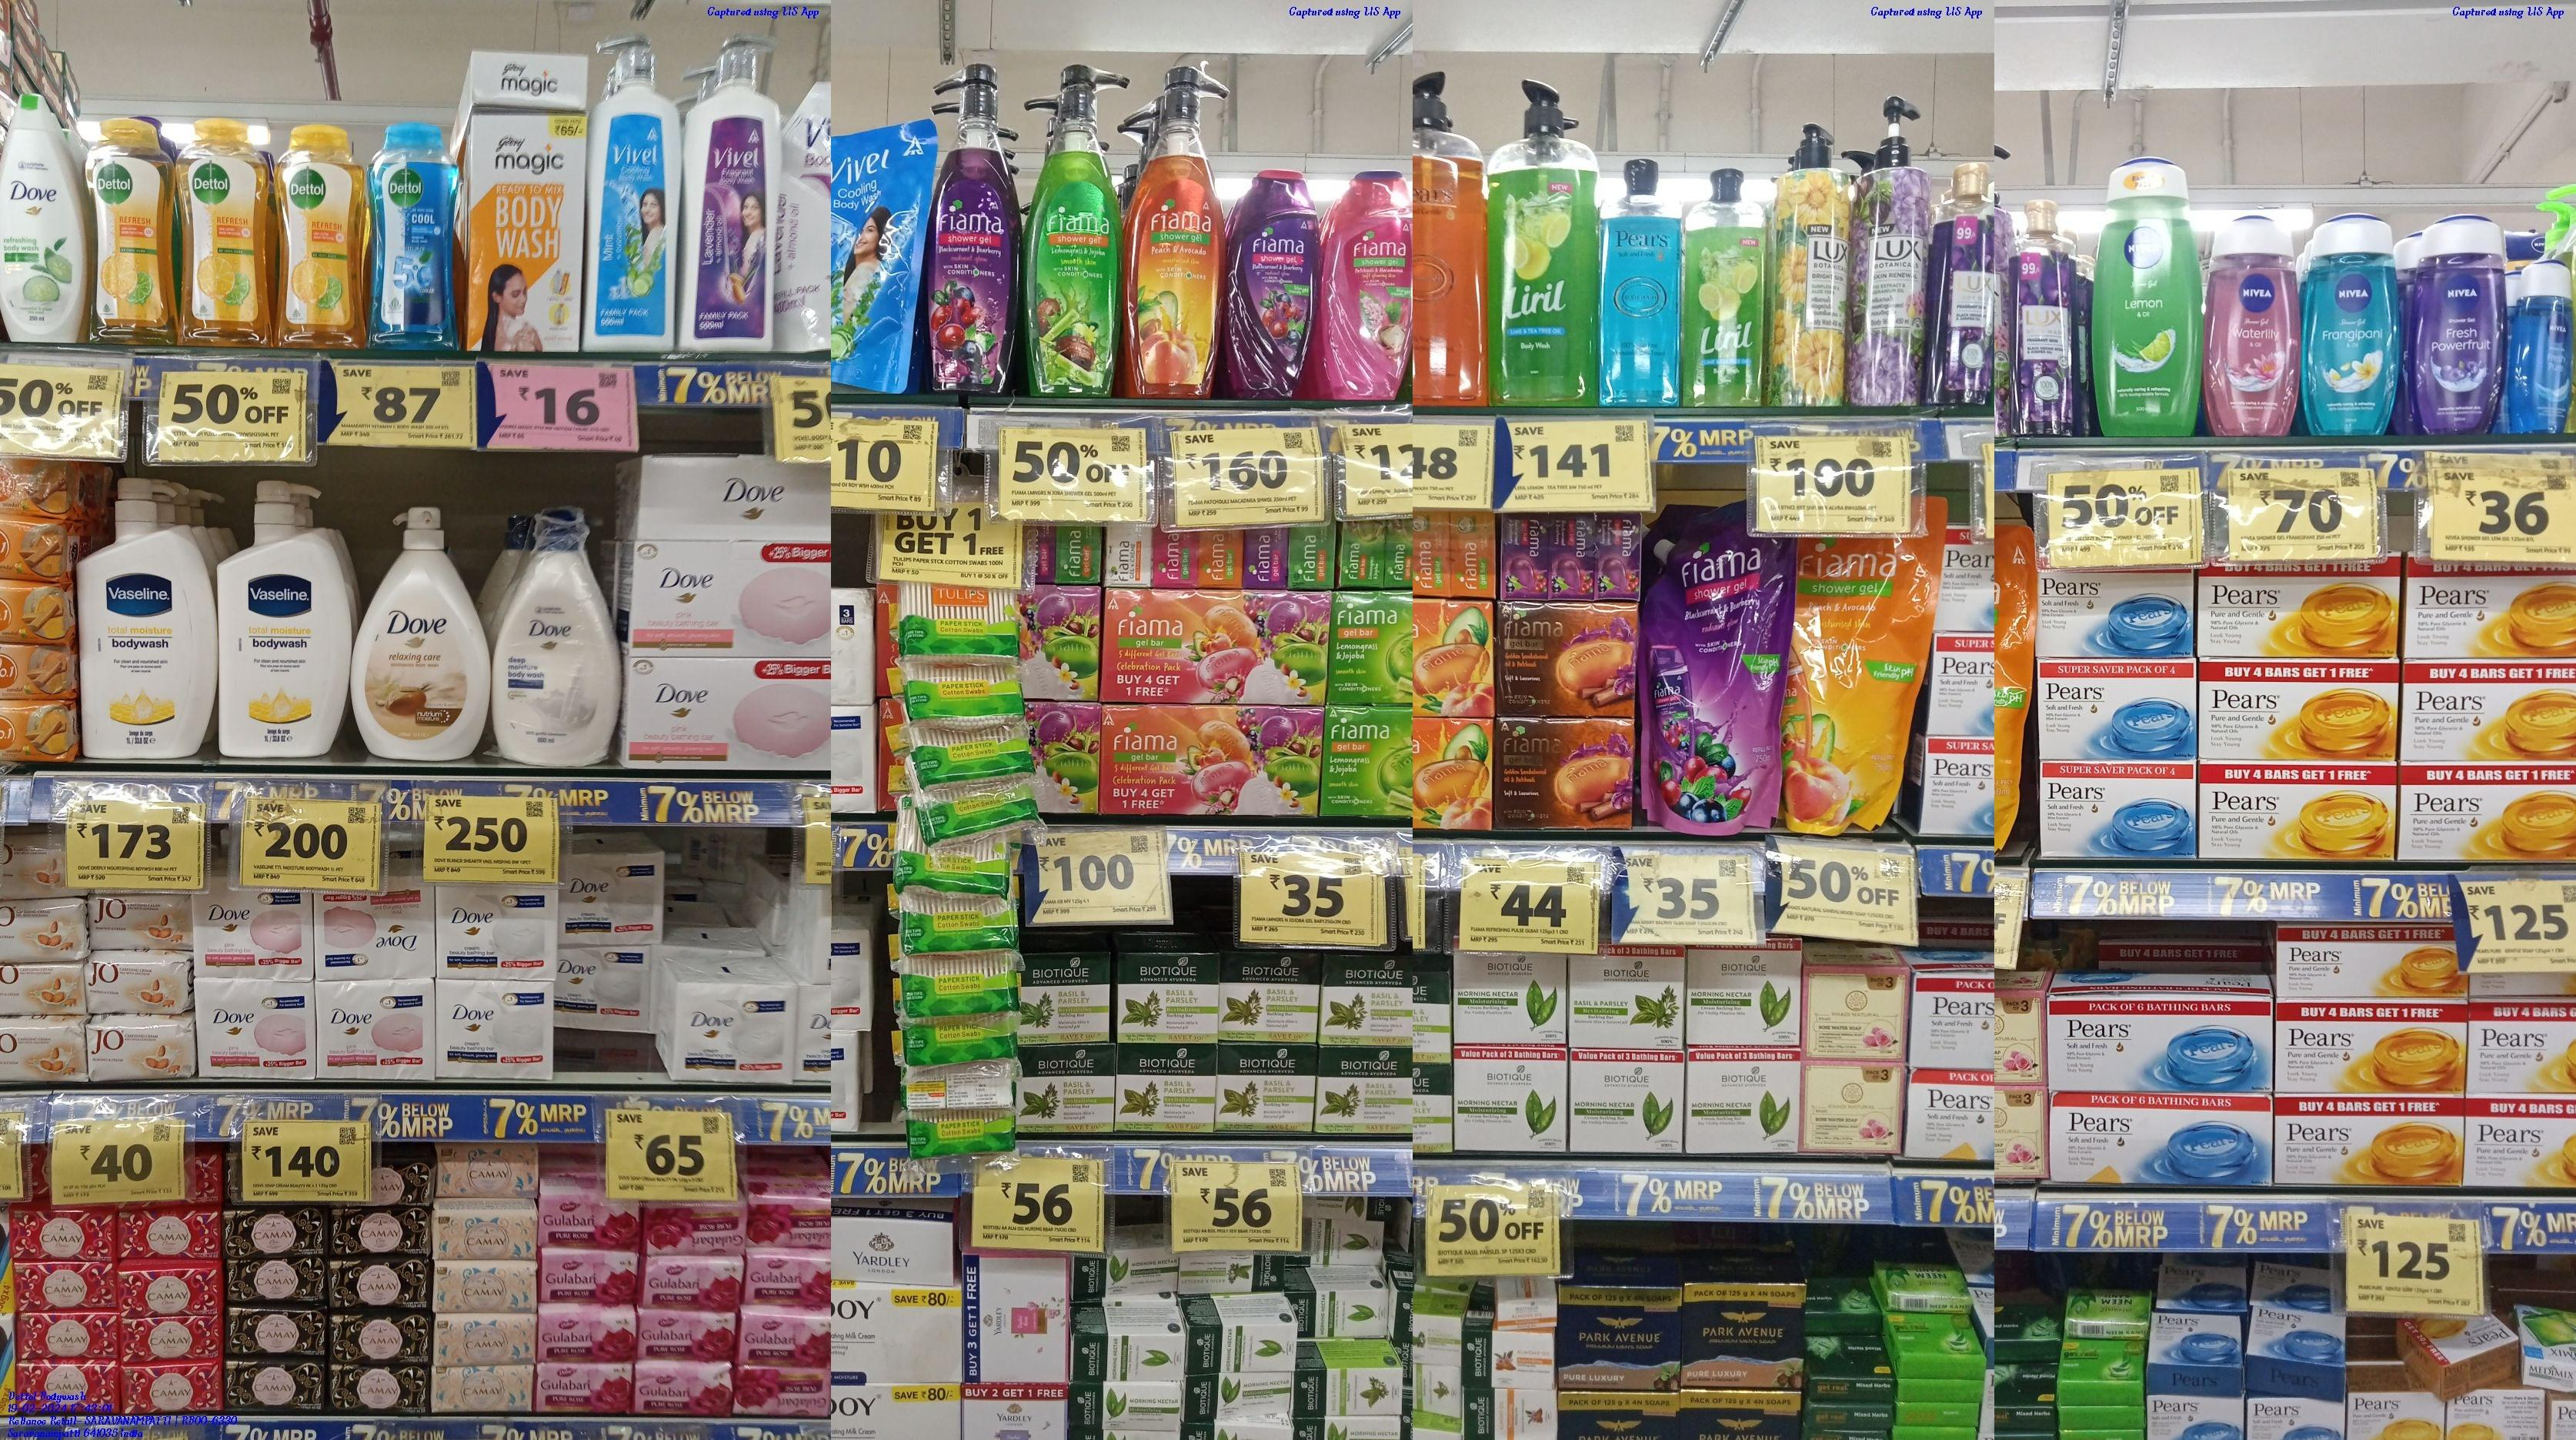Dettol_Bodywash_Cool: (373, 117, 458, 357)
Dettol_Bodywash_Refresh: (276, 120, 366, 350), (87, 117, 175, 343), (184, 119, 271, 345)
Dove_Refreshing_Body_Wash_250ML: (2, 90, 83, 343)
Fiama_Shower_Gel_Patchouli_and_Macadamia_250ML: (1322, 166, 1410, 400)
Liril_Lime_and_Tea_Tree_Oil_Body_Wash_250ML: (1688, 156, 1767, 405)
Lux_Black_Orchid_Scent_and_Juniper_Oil_Body_Wash_245ML: (1928, 157, 1994, 405), (2008, 202, 2074, 435)
Nivea_Shower_Gel_Frangipani_and_Oil_250ML: (2304, 209, 2401, 435)
Nivea_Shower_Gel_Fresh_Powerfruit_250ML: (2410, 212, 2509, 435)
Nivea_Shower_Gel_Lemon_and_Oil_250ML: (2089, 147, 2206, 435)
Nivea_Shower_Gel_Waterlily_and_Oil_250ML: (2213, 202, 2298, 433)
Pears_Pure_Glycerin_and_Mint_Extracts_Body_Wash_250ML: (1601, 156, 1683, 403)
